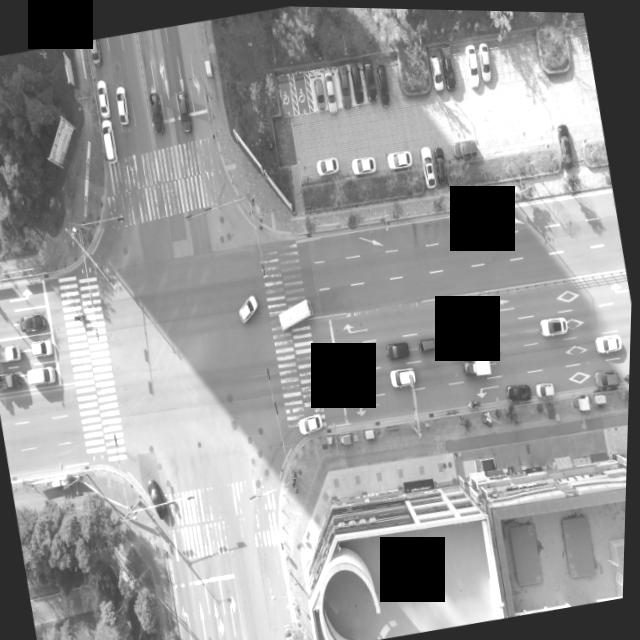car: (148, 475, 172, 521), (555, 120, 578, 168), (462, 38, 484, 86), (438, 42, 460, 90), (374, 61, 394, 108), (475, 37, 495, 81), (390, 362, 421, 389), (174, 90, 193, 134), (150, 92, 169, 135), (432, 143, 453, 181), (28, 363, 61, 387), (315, 152, 345, 178), (421, 143, 439, 185), (101, 118, 119, 160), (541, 310, 571, 335), (343, 340, 373, 365), (386, 146, 416, 171), (115, 84, 133, 125), (238, 292, 263, 321), (385, 336, 414, 361), (20, 311, 50, 335), (362, 61, 380, 101), (478, 40, 495, 80), (351, 151, 380, 174), (452, 135, 481, 158), (349, 62, 365, 103), (300, 410, 327, 434), (598, 329, 626, 351), (448, 327, 474, 350), (31, 336, 57, 359), (324, 73, 341, 108), (95, 78, 111, 115), (430, 50, 446, 87), (509, 380, 535, 400), (597, 366, 622, 386), (337, 64, 352, 97), (418, 334, 440, 354), (88, 39, 103, 66), (576, 392, 596, 412), (537, 379, 557, 396), (597, 389, 611, 405)
small_bus: (276, 293, 318, 330)
small_truck: (336, 370, 370, 398), (463, 353, 494, 378), (0, 369, 25, 393), (0, 343, 24, 365)
